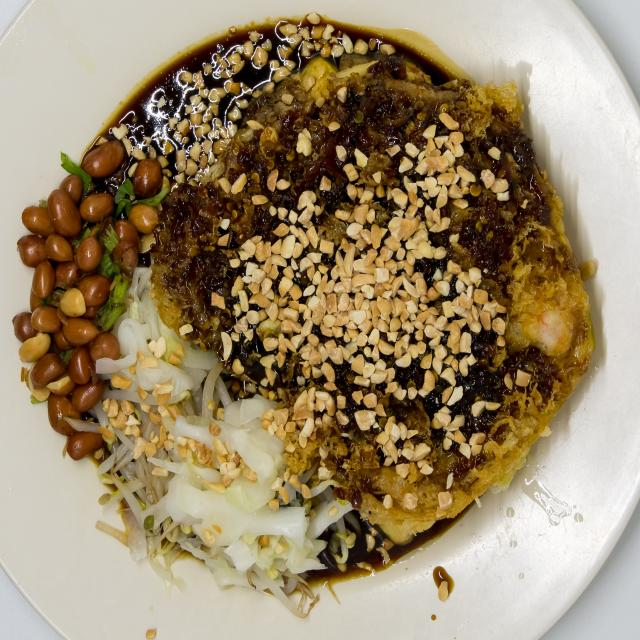Tahu-Telur: (18, 28, 611, 614)
